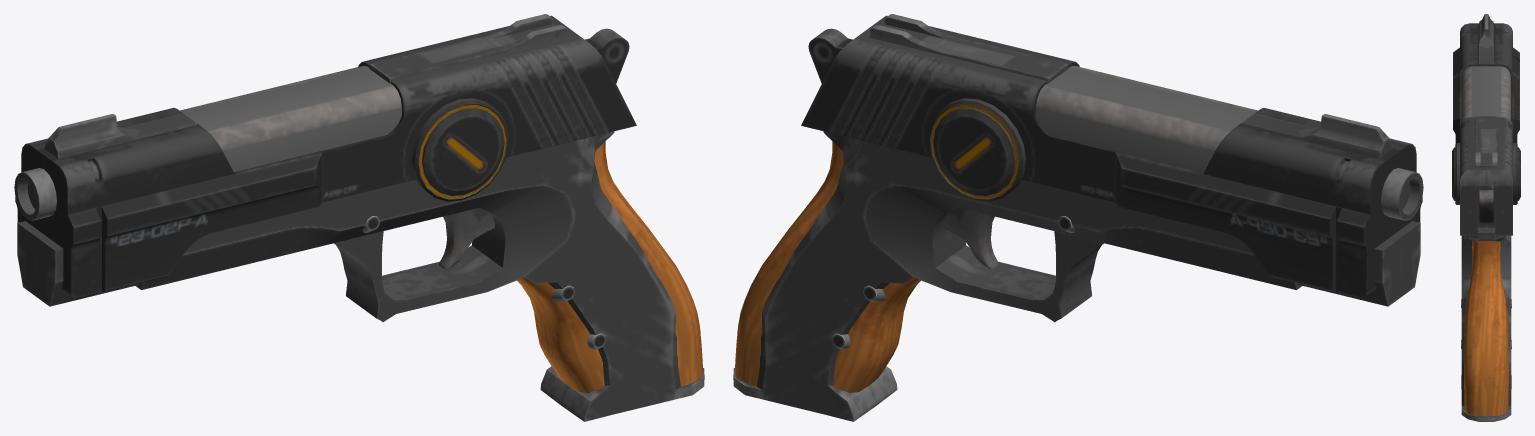
The model's file is Gun_Pistol.gltf.
3 renders of one model, left to right at view 1: azimuth 30°, elevation 25°; view 2: azimuth 150°, elevation 25°; view 3: azimuth 270°, elevation 25°, orthographic. The views are drawn at different scales.
Parts seen in each view (by area): view 1: Gun_Pistol; view 2: Gun_Pistol; view 3: Gun_Pistol.
Part boxes in pixels (x1,y1,x2,y2): Gun_Pistol: (14, 14, 704, 421); Gun_Pistol: (733, 14, 1423, 421); Gun_Pistol: (1452, 14, 1520, 421).
Bounding box in the file's own units: 0.4425 × 0.2524 × 0.0685.
Materials: 1 (1 with a texture image).
